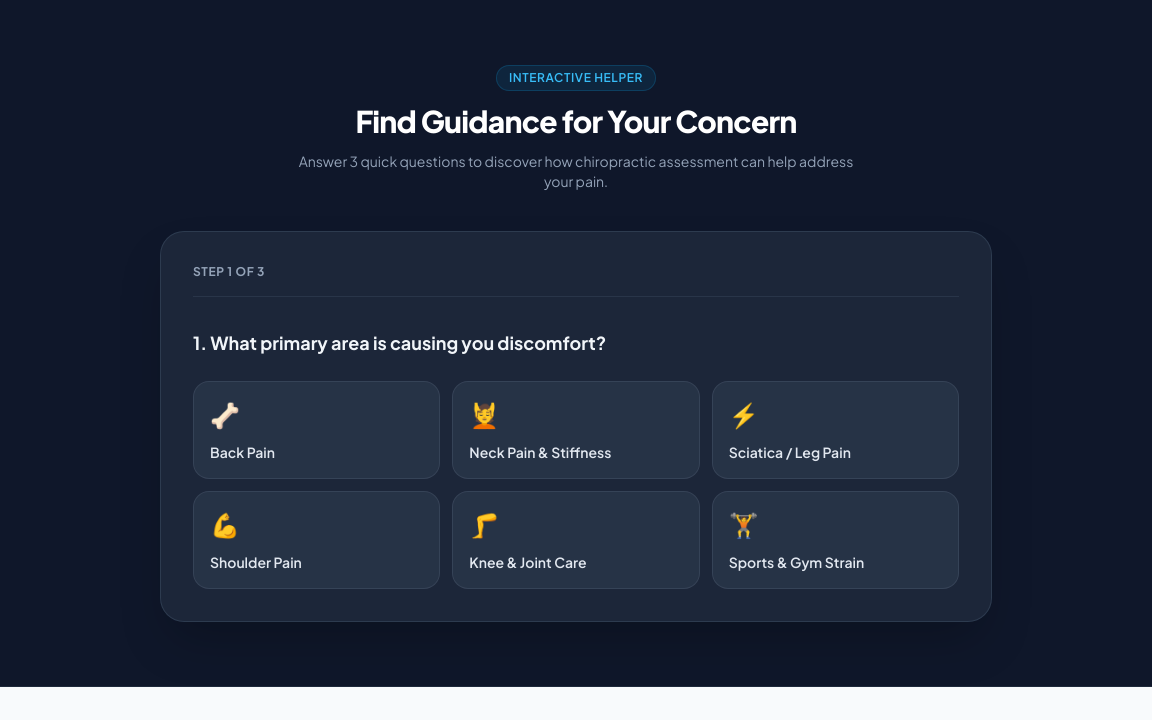
Test: ConcernFinder Component › allows user to select concern and navigate through all 3 steps to view recommendation
Select Back Pain
Step 1. Click the text "Back Pain" → (242, 452), box left=210, top=442, right=275, bottom=462
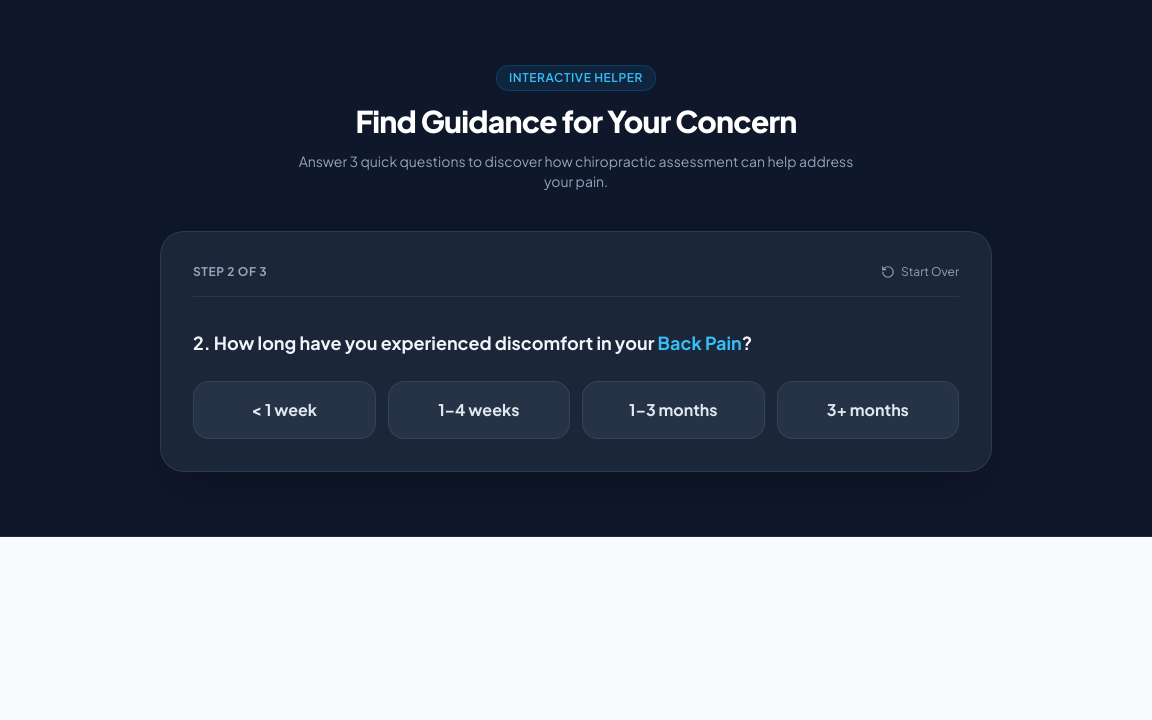
Now the text "Step 2 of 3" is shown, box left=193, top=264, right=267, bottom=280
Select duration
Step 2. Click the button "1–4 weeks" → (479, 410), box left=388, top=381, right=570, bottom=439
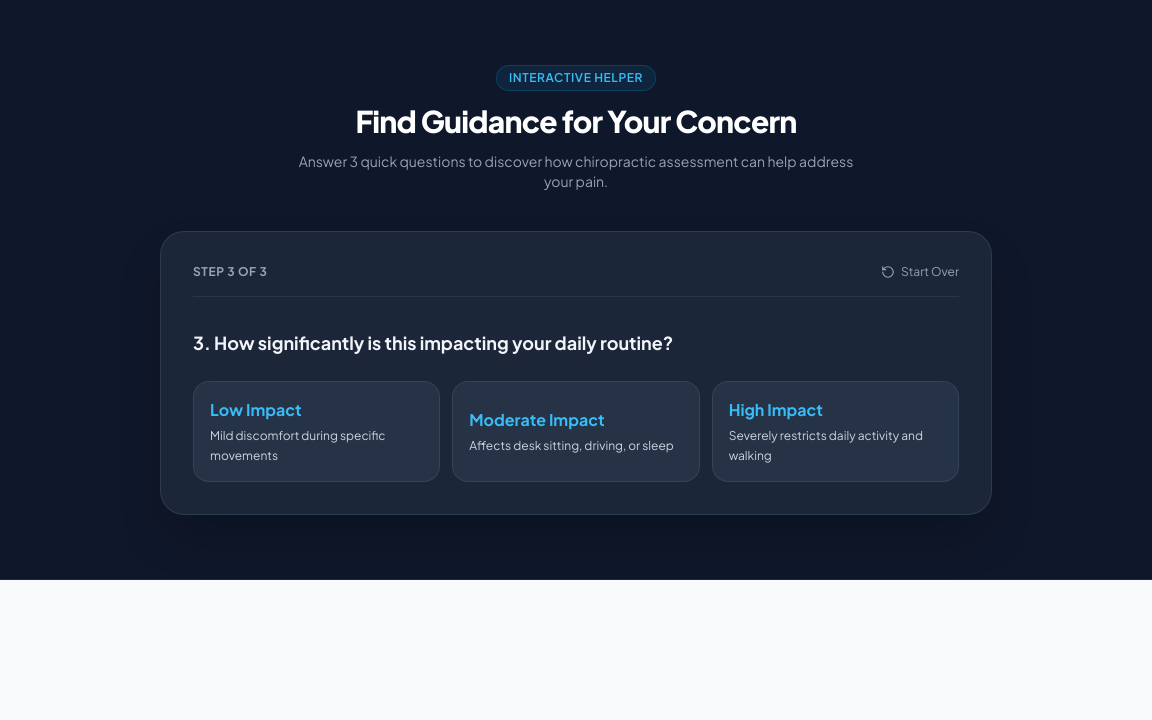
Now the text "Step 3 of 3" is shown, box left=193, top=264, right=267, bottom=280
Select impact level
Step 3. Click the text "Moderate Impact" → (537, 419), box left=469, top=409, right=604, bottom=430
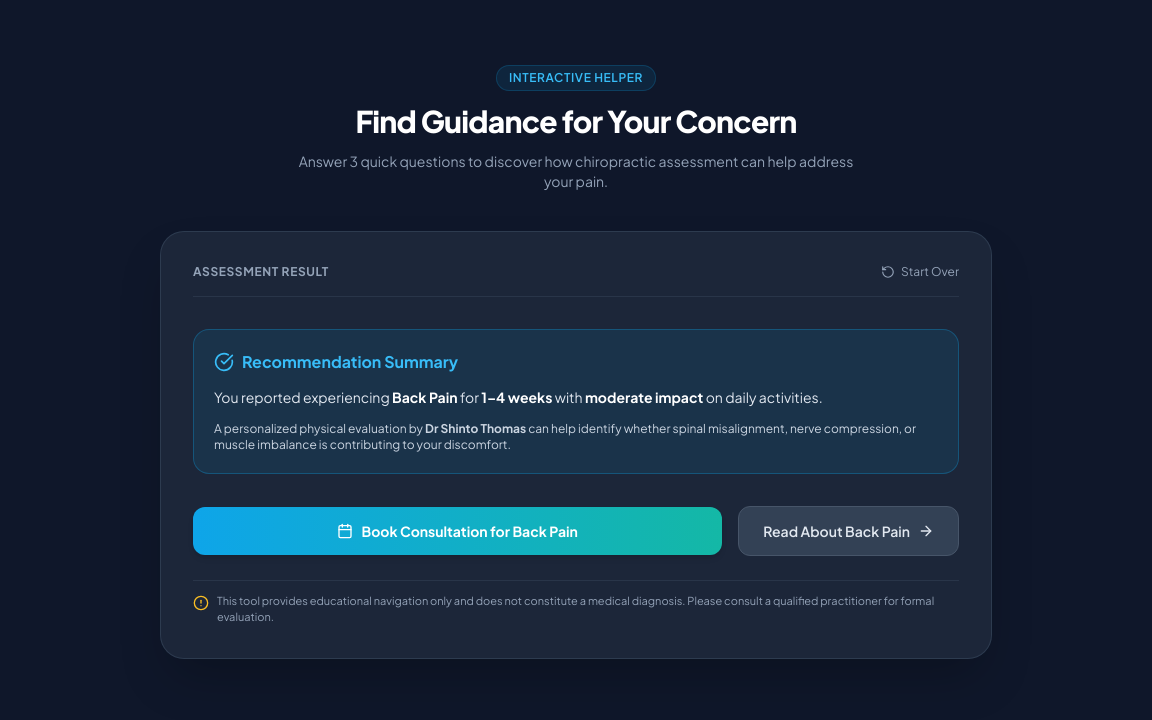
Now the text "Recommendation Summary" is shown, box left=242, top=350, right=458, bottom=374
Now the text "You reported experiencing" is shown, box left=214, top=388, right=392, bottom=406
